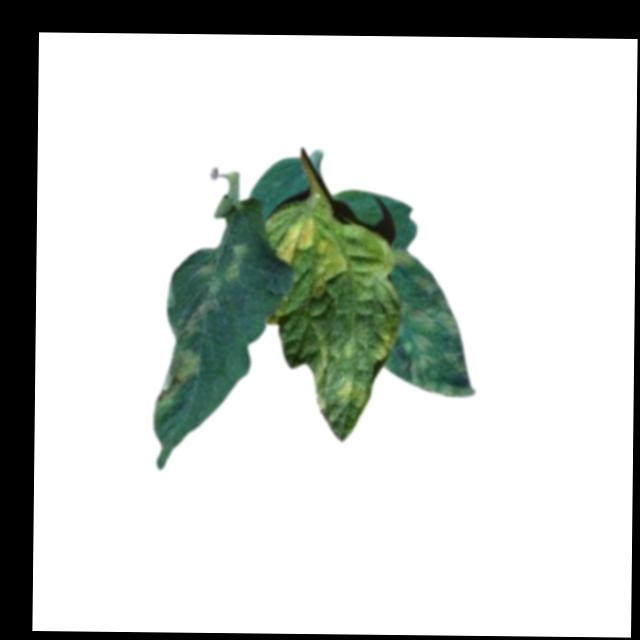Leaf_Mold: (389, 250, 474, 400), (152, 343, 201, 413), (265, 210, 313, 268), (314, 237, 349, 303), (220, 239, 249, 284), (337, 378, 366, 410)
